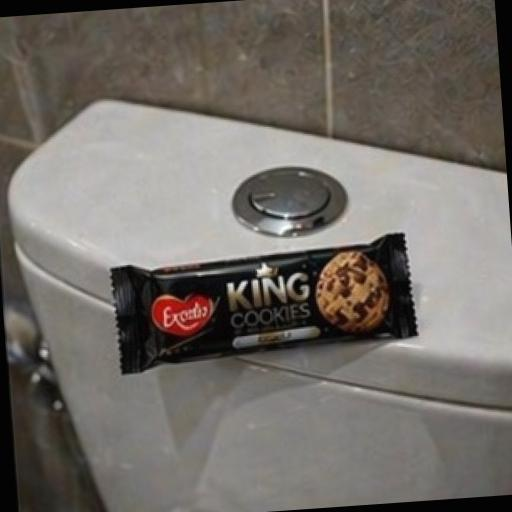king_cooking: (88, 194, 490, 414)
